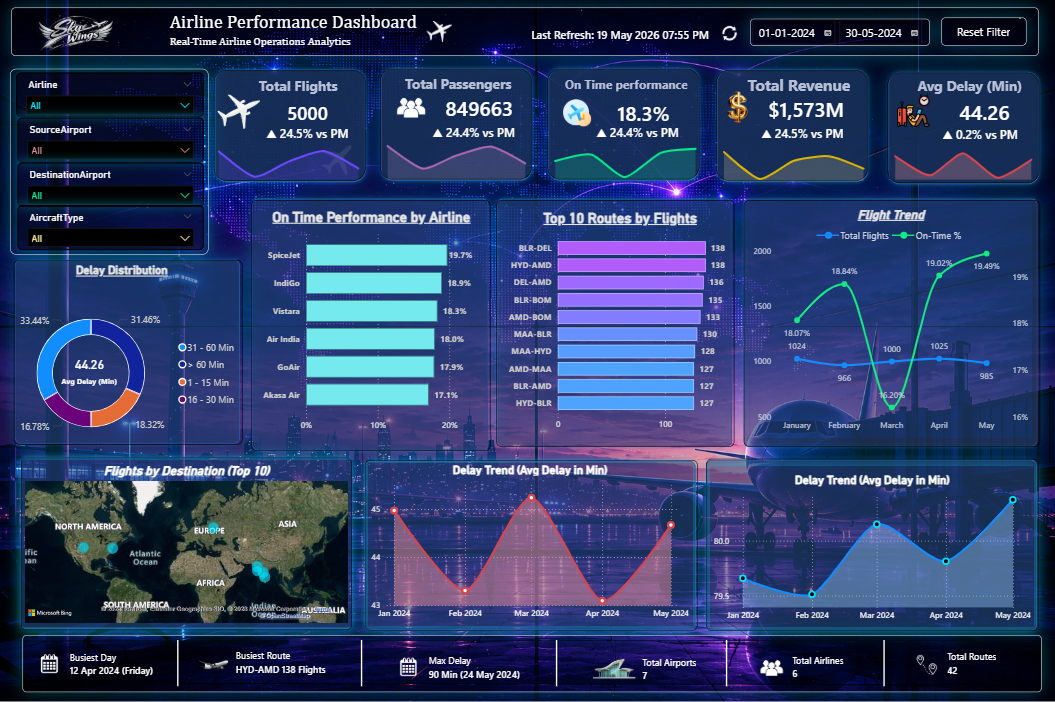

The page's visual inventory and layout, read from the dashboard file:
{"tool":"powerbi","page":{"name":"Page 1","canvas":[1536,1024],"ordinal":0},"visuals":[{"type":"group","id":"g1","title":"Group 1","box":[792.3,94.2,228.9,173.1],"z":0,"group":"g14"},{"type":"shape","box":[792.3,94.2,229.4,173.1],"z":0,"group":"g1"},{"type":"group","id":"g2","title":"Group 1","box":[306.7,95,228.9,173.1],"z":0,"group":"g10"},{"type":"shape","box":[306.7,95,229.4,173.1],"z":0,"group":"g2"},{"type":"group","id":"g3","title":"Group 1","box":[547.9,95.1,228.9,173.1],"z":0,"group":"g12"},{"type":"shape","box":[547.9,95.1,229.4,173.1],"z":0,"group":"g3"},{"type":"group","id":"g4","title":"Group 1","box":[1037.4,96.8,228.9,173.1],"z":0,"group":"g13"},{"type":"shape","box":[1037.4,96.8,229.4,173.1],"z":0,"group":"g4"},{"type":"group","id":"g5","title":"Group 1","box":[1285.6,99.6,228.9,173.1],"z":0,"group":"g16"},{"type":"shape","box":[1285.6,99.6,229.4,173.1],"z":0,"group":"g5"},{"type":"shape","box":[361.4,282.9,353.7,376.7],"z":0,"group":"g9"},{"type":"shape","box":[718.6,282.9,352.2,371.1],"z":0,"group":"g8"},{"type":"group","id":"g6","title":"Group 1","box":[1075.7,282.9,438.6,372.9],"z":0},{"type":"shape","box":[1075.7,282.9,437.8,371.1],"z":0,"group":"g6"},{"type":"shape","box":[15.7,372.9,337.7,277.6],"z":0,"group":"g11"},{"type":"shape","box":[25.4,660.8,491.5,260],"z":0,"group":"g19"},{"type":"shape","box":[1022,664,491.6,258.7],"z":0,"group":"g17"},{"type":"shape","box":[524.6,664.6,491.6,255.8],"z":0,"group":"g15"},{"type":"group","id":"g7","title":"Group 3","box":[286.7,66.7,1250,205],"z":1000},{"type":"areaChart","fields":{"Y":["Flights.Total Flights"],"Category":["Flights.Clean Date.Variation.Date Hierarchy.Year","Flights.Clean Date.Variation.Date Hierarchy.Month"]},"box":[303.4,194.9,232.7,70.7],"z":1000,"group":"g10"},{"type":"areaChart","fields":{"Category":["Flights.Clean Date.Variation.Date Hierarchy.Year","Flights.Clean Date.Variation.Date Hierarchy.Month"],"Y":["Flights.OTP %"]},"box":[791.3,195.1,234.2,70],"z":1000,"group":"g14"},{"type":"areaChart","fields":{"Category":["Flights.Clean Date.Variation.Date Hierarchy.Year","Flights.Clean Date.Variation.Date Hierarchy.Month"],"Y":["Flights.Total Passengers"]},"box":[547.3,196.1,230,70],"z":1000,"group":"g12"},{"type":"areaChart","fields":{"Category":["Flights.Clean Date.Variation.Date Hierarchy.Year","Flights.Clean Date.Variation.Date Hierarchy.Month"],"Y":["Flights.Avg Delay (Min)"]},"box":[1286.3,196.6,228,70],"z":1000,"group":"g16"},{"type":"areaChart","fields":{"Category":["Flights.Clean Date.Variation.Date Hierarchy.Year","Flights.Clean Date.Variation.Date Hierarchy.Month"],"Y":["Flights.Total Revenue"]},"box":[1037.7,197.8,233,70],"z":1000,"group":"g13"},{"type":"cardVisual","fields":{"Data":["Flights.Passenger Growth Display"]},"box":[836.8,157.5,179.2,74.2],"z":2000,"group":"g14"},{"type":"cardVisual","fields":{"Data":["Flights.Revenue Growth Display"]},"box":[1076.8,158,180,75],"z":2000,"group":"g13"},{"type":"cardVisual","fields":{"Data":["Flights.Passenger Growth Display"]},"box":[599.4,158.5,179.2,74.2],"z":2000,"group":"g12"},{"type":"cardVisual","fields":{"Data":["Flights.Delay Growth Display"]},"box":[1341.2,159.3,180,75],"z":2000,"group":"g16"},{"type":"cardVisual","fields":{"Data":["Flights.Growth Display"]},"box":[357.5,159.9,180,74.2],"z":2000,"group":"g10"},{"type":"lineChart","title":"Flight Trend","fields":{"Category":["DateTable.Date.Variation.Date Hierarchy.Month"],"Y":["Flights.Total Flights"],"Y2":["Flights.On-Time %"]},"box":[1090,290,410,345.7],"z":2000},{"type":"group","id":"g8","title":"Group 1","box":[718.6,282.9,352.9,372.9],"z":3000},{"type":"cardVisual","fields":{"Data":["Flights.Total Passengers"]},"box":[542.7,109.8,245,90],"z":4000,"group":"g12"},{"type":"cardVisual","fields":{"Data":["Flights.Avg Delay"]},"box":[1273.7,111,262.5,100.8],"z":4000,"group":"g16"},{"type":"cardVisual","fields":{"Data":["Flights.Total Revenue"]},"box":[1017.6,114.7,257.5,83.3],"z":4000,"group":"g13"},{"type":"cardVisual","fields":{"Data":["Flights.Total Flights"]},"box":[286.7,116.6,243.3,89.2],"z":4000,"group":"g10"},{"type":"cardVisual","fields":{"Data":["Flights.OTP %"]},"box":[784.3,116.7,245,90],"z":4000,"group":"g14"},{"type":"group","id":"g9","title":"Group 1","box":[361.4,282.9,354.3,378.6],"z":4000},{"type":"cardVisual","fields":{"Data":["Flights.OTP %"]},"box":[792.1,66.7,250.8,110.8],"z":5000,"group":"g14"},{"type":"cardVisual","fields":{"Data":["Flights.Total Passengers"]},"box":[559.3,70.6,231.7,104.2],"z":5000,"group":"g12"},{"type":"cardVisual","fields":{"Data":["Flights.Total Revenue"]},"box":[1056.8,70.9,231.7,104.2],"z":5000,"group":"g13"},{"type":"cardVisual","fields":{"Data":["Flights.Avg Delay (Min)"]},"box":[1305.3,72.1,232.5,104.2],"z":5000,"group":"g16"},{"type":"group","id":"g10","title":"Group 2","box":[286.7,79.1,274.2,188.9],"z":5000,"group":"g7"},{"type":"cardVisual","fields":{"Data":["Flights.Total Flights"]},"box":[346.7,79.1,214.2,90],"z":5000,"group":"g10"},{"type":"cardVisual","fields":{"Data":["Flights.Total Flights"]},"box":[796.8,100.4,220.5,160.7],"z":5000,"group":"g1"},{"type":"cardVisual","fields":{"Data":["Flights.Total Flights"]},"box":[311.2,101.2,220.5,160.7],"z":5000,"group":"g2"},{"type":"cardVisual","fields":{"Data":["Flights.Total Flights"]},"box":[552.4,101.3,220.5,160.7],"z":5000,"group":"g3"},{"type":"cardVisual","fields":{"Data":["Flights.Total Flights"]},"box":[1041.9,103,220.5,160.7],"z":5000,"group":"g4"},{"type":"cardVisual","fields":{"Data":["Flights.Total Flights"]},"box":[1290.1,105.8,220.5,160.7],"z":5000,"group":"g5"},{"type":"cardVisual","fields":{"Data":["Flights.Total Flights"]},"box":[722.5,289.3,346.7,359.3],"z":5000,"group":"g8"},{"type":"cardVisual","fields":{"Data":["Flights.Total Flights"]},"box":[1080.6,289.3,431,359.3],"z":5000,"group":"g6"},{"type":"cardVisual","fields":{"Data":["Flights.Total Flights"]},"box":[365.3,289.4,348.1,364.8],"z":5000,"group":"g9"},{"type":"group","id":"g11","title":"Group 1","box":[15.7,372.9,338.6,277.1],"z":5000},{"type":"cardVisual","fields":{"Data":["Flights.Total Flights"]},"box":[19.4,377.7,332.4,268.9],"z":5000,"group":"g11"},{"type":"cardVisual","fields":{"Data":["Flights.Total Flights"]},"box":[30,666.2,480.8,251.5],"z":5000,"group":"g19"},{"type":"cardVisual","fields":{"Data":["Flights.Total Flights"]},"box":[1027.4,668.5,483.9,250.5],"z":5000,"group":"g17"},{"type":"cardVisual","fields":{"Data":["Flights.Total Flights"]},"box":[530,669,483.9,247.8],"z":5000,"group":"g15"},{"type":"group","id":"g12","title":"Group 2","box":[542.7,70.6,248.3,197.6],"z":6000,"group":"g7"},{"type":"cardVisual","fields":{"Data":["Flights.Total Flights"]},"box":[15.2,99.6,288.4,270],"z":6000},{"type":"group","id":"g13","title":"Group 2","box":[1017.6,70.9,270.9,199],"z":7000,"group":"g7"},{"type":"cardVisual","fields":{"Data":["Flights.Total Flights"]},"box":[33,923,1482,83],"z":7000},{"type":"group","id":"g14","title":"Group 2","box":[784.3,66.7,258.7,200.6],"z":8000,"group":"g7"},{"type":"group","id":"g15","title":"Group 1","box":[524.6,664.6,491.5,254.6],"z":8000},{"type":"group","id":"g16","title":"Group 2","box":[1273.7,72.1,264.1,200.6],"z":9000,"group":"g7"},{"type":"group","id":"g17","title":"Group 1","box":[1022,664,492,258],"z":9000},{"type":"cardVisual","fields":{"Data":["Flights.Total Flights"]},"box":[15.7,10.3,1494,70],"z":10000},{"type":"clusteredBarChart","title":"Top 10 Routes  by Flights","fields":{"Y":["Flights.Total Flights"],"Category":["Flights.Route"]},"box":[734,295,335,341],"z":11000},{"type":"group","id":"g18","title":"Group 1","box":[25.4,660.8,491.5,260],"z":12000},{"type":"group","id":"g19","title":"Group 4","box":[25.4,660.8,491.5,260],"z":12001,"group":"g18"},{"type":"clusteredBarChart","title":"On Time Performance by Airline","fields":{"Category":["Flights.Airline"],"Y":["Flights.On Time 2 %"]},"box":[377,293,328,343],"z":13000},{"type":"card","fields":{"Values":["Flights.Avg Delay (Min)"]},"box":[69.4,503.9,122.2,68.9],"z":14000},{"type":"donutChart","title":"Delay Distribution ","fields":{"Category":["Flights.Delay Group"],"Y":["CountNonNull(Flights.DelayMinutes)"]},"box":[0,373.3,354.4,310],"z":15000},{"type":"map","title":"Flights by Destination (Top 10)","fields":{"Category":["Flights.DestinationAirport"],"Size":["Flights.Total Flights"]},"box":[30,669.3,480.7,242],"z":16000},{"type":"lineChart","title":"Delay Trend (Avg Delay in Min) ","fields":{"Y":["Flights.Avg Delay"],"Category":["DateTable.Date.Variation.Date Hierarchy.Year","DateTable.Date.Variation.Date Hierarchy.Month"]},"box":[535,673.3,472.5,237.5],"z":17000},{"type":"lineChart","title":"Delay Trend (Avg Delay in Min) ","fields":{"Y":["DateTable.Load Factor %"],"Category":["DateTable.Date.Variation.Date Hierarchy.Year","DateTable.Date.Variation.Date Hierarchy.Month"]},"box":[1032.4,677.6,471.8,234.1],"z":18000},{"type":"textbox","box":[242.5,10,410.8,42.5],"z":19000},{"type":"textbox","box":[242.4,45.3,293.5,33.5],"z":20000},{"type":"image","box":[610.7,22.7,56,48],"z":21000},{"type":"cardVisual","fields":{"Data":["Flights.Last Refresh"]},"box":[744.2,10,365,75],"z":22000},{"type":"slicer","fields":{"Values":["Flights.Airline"]},"box":[23.6,105.9,272.7,64.5],"z":23000},{"type":"cardVisual","fields":{"Data":["Flights.Total Flights"]},"box":[1090,27.5,261.7,39.2],"z":24000},{"type":"actionButton","box":[1369.2,25.4,123.8,40.8],"z":25000},{"type":"slicer","fields":{"Values":["DateTable.Date"]},"box":[1081.7,18.3,270.8,51.7],"z":26000},{"type":"slicer","fields":{"Values":["Flights.SourceAirport"]},"box":[25.5,170,270.9,65.5],"z":27000},{"type":"slicer","fields":{"Values":["Flights.DestinationAirport"]},"box":[25.5,235.5,270.9,65],"z":28000},{"type":"slicer","fields":{"Values":["Flights.AircraftType"]},"box":[25.5,298.2,270.9,65.5],"z":29000},{"type":"cardVisual","fields":{"Data":["Flights.Busiest Day"]},"box":[25.4,923.1,245.4,83.1],"z":30000},{"type":"cardVisual","fields":{"Data":["Flights.Busiest Route"]},"box":[260,926,264,84],"z":31000},{"type":"cardVisual","fields":{"Data":["Flights.Max Delay"]},"box":[548,932,246,74],"z":32000},{"type":"image","box":[0,0,218.5,106.2],"z":33000},{"type":"cardVisual","fields":{"Data":["Flights.Total Airports"]},"box":[838,932,204,80],"z":34000},{"type":"cardVisual","fields":{"Data":["Flights.Total Routes"]},"box":[1303.8,926.2,192.5,82.5],"z":35000},{"type":"cardVisual","fields":{"Data":["Flights.Total Airports"]},"box":[1633.1,1548.5,228.5,65.4],"z":36000},{"type":"cardVisual","fields":{"Data":["Flights.Total Airlines"]},"box":[1078,932,208,76],"z":37000},{"type":"shape","box":[516.8,1695.9,11.8,70],"z":38000},{"type":"shape","box":[184.2,930.8,150,67.5],"z":39000},{"type":"shape","box":[450,930.8,150,67.5],"z":40000},{"type":"shape","box":[734.2,930.8,150,67.5],"z":41000},{"type":"shape","box":[981.7,930.8,150,67.5],"z":42000},{"type":"shape","box":[1210.8,930.8,150,67.5],"z":43000}]}

Visuals, with their boxes in screenshot pixels (x1, y1, x2, y2), scaled from the page's 1536x1024 canvas onto the 1055x702 screenshot:
"Group 1" group: locate(544, 65, 701, 183)
shape: locate(544, 65, 702, 183)
"Group 1" group: locate(211, 65, 368, 184)
shape: locate(211, 65, 368, 184)
"Group 1" group: locate(376, 65, 534, 184)
shape: locate(376, 65, 534, 184)
"Group 1" group: locate(713, 66, 870, 185)
shape: locate(713, 66, 870, 185)
"Group 1" group: locate(883, 68, 1040, 187)
shape: locate(883, 68, 1041, 187)
shape: locate(248, 194, 491, 452)
shape: locate(494, 194, 735, 448)
"Group 1" group: locate(739, 194, 1040, 450)
shape: locate(739, 194, 1040, 448)
shape: locate(11, 256, 243, 446)
shape: locate(17, 453, 355, 631)
shape: locate(702, 455, 1040, 633)
shape: locate(360, 456, 698, 631)
"Group 3" group: locate(197, 46, 1054, 186)
areaChart - Flights.Total Flights x Flights.Clean Date.Variation.Date Hierarchy.Year: locate(208, 134, 368, 182)
areaChart - Flights.Clean Date.Variation.Date Hierarchy.Year x Flights.Clean Date.Variation.Date Hierarchy.Month: locate(544, 134, 704, 182)
areaChart - Flights.Clean Date.Variation.Date Hierarchy.Year x Flights.Clean Date.Variation.Date Hierarchy.Month: locate(376, 134, 534, 182)
areaChart - Flights.Clean Date.Variation.Date Hierarchy.Year x Flights.Clean Date.Variation.Date Hierarchy.Month: locate(883, 135, 1040, 183)
areaChart - Flights.Clean Date.Variation.Date Hierarchy.Year x Flights.Clean Date.Variation.Date Hierarchy.Month: locate(713, 136, 873, 184)
cardVisual - Flights.Passenger Growth Display: locate(575, 108, 698, 159)
cardVisual - Flights.Revenue Growth Display: locate(740, 108, 863, 160)
cardVisual - Flights.Passenger Growth Display: locate(412, 109, 535, 160)
cardVisual - Flights.Delay Growth Display: locate(921, 109, 1045, 161)
cardVisual - Flights.Growth Display: locate(246, 110, 369, 160)
"Flight Trend" lineChart: locate(749, 199, 1030, 436)
"Group 1" group: locate(494, 194, 736, 450)
cardVisual - Flights.Total Passengers: locate(373, 75, 541, 137)
cardVisual - Flights.Avg Delay: locate(875, 76, 1054, 145)
cardVisual - Flights.Total Revenue: locate(699, 79, 876, 136)
cardVisual - Flights.Total Flights: locate(197, 80, 364, 141)
cardVisual - Flights.OTP %: locate(539, 80, 707, 142)
"Group 1" group: locate(248, 194, 492, 453)
cardVisual - Flights.OTP %: locate(544, 46, 716, 122)
cardVisual - Flights.Total Passengers: locate(384, 48, 543, 120)
cardVisual - Flights.Total Revenue: locate(726, 49, 885, 120)
cardVisual - Flights.Avg Delay (Min): locate(897, 49, 1054, 121)
"Group 2" group: locate(197, 54, 385, 184)
cardVisual - Flights.Total Flights: locate(238, 54, 385, 116)
cardVisual - Flights.Total Flights: locate(547, 69, 699, 179)
cardVisual - Flights.Total Flights: locate(214, 69, 365, 180)
cardVisual - Flights.Total Flights: locate(379, 69, 531, 180)
cardVisual - Flights.Total Flights: locate(716, 71, 867, 181)
cardVisual - Flights.Total Flights: locate(886, 73, 1038, 183)
cardVisual - Flights.Total Flights: locate(496, 198, 734, 445)
cardVisual - Flights.Total Flights: locate(742, 198, 1038, 445)
cardVisual - Flights.Total Flights: locate(251, 198, 490, 448)
"Group 1" group: locate(11, 256, 243, 446)
cardVisual - Flights.Total Flights: locate(13, 259, 242, 443)
cardVisual - Flights.Total Flights: locate(21, 457, 351, 629)
cardVisual - Flights.Total Flights: locate(706, 458, 1038, 630)
cardVisual - Flights.Total Flights: locate(364, 459, 696, 629)
"Group 2" group: locate(373, 48, 543, 184)
cardVisual - Flights.Total Flights: locate(10, 68, 209, 253)
"Group 2" group: locate(699, 49, 885, 185)
cardVisual - Flights.Total Flights: locate(23, 633, 1041, 690)
"Group 2" group: locate(539, 46, 716, 183)
"Group 1" group: locate(360, 456, 698, 630)
"Group 2" group: locate(875, 49, 1054, 187)
"Group 1" group: locate(702, 455, 1040, 632)
cardVisual - Flights.Total Flights: locate(11, 7, 1037, 55)
"Top 10 Routes  by Flights" clusteredBarChart: locate(504, 202, 734, 436)
"Group 1" group: locate(17, 453, 355, 631)
"Group 4" group: locate(17, 453, 355, 631)
"On Time Performance by Airline" clusteredBarChart: locate(259, 201, 484, 436)
card - Flights.Avg Delay (Min): locate(48, 345, 132, 393)
"Delay Distribution " donutChart: locate(0, 256, 243, 468)
"Flights by Destination (Top 10)" map: locate(21, 459, 351, 625)
"Delay Trend (Avg Delay in Min) " lineChart: locate(367, 462, 692, 624)
"Delay Trend (Avg Delay in Min) " lineChart: locate(709, 465, 1033, 625)
textbox: locate(167, 7, 449, 36)
textbox: locate(166, 31, 368, 54)
image: locate(419, 16, 458, 48)
cardVisual - Flights.Last Refresh: locate(511, 7, 762, 58)
slicer - Flights.Airline: locate(16, 73, 204, 117)
cardVisual - Flights.Total Flights: locate(749, 19, 928, 46)
actionButton: locate(940, 17, 1025, 45)
slicer - DateTable.Date: locate(743, 13, 929, 48)
slicer - Flights.SourceAirport: locate(18, 117, 204, 161)
slicer - Flights.DestinationAirport: locate(18, 161, 204, 206)
slicer - Flights.AircraftType: locate(18, 204, 204, 249)
cardVisual - Flights.Busiest Day: locate(17, 633, 186, 690)
cardVisual - Flights.Busiest Route: locate(179, 635, 360, 692)
cardVisual - Flights.Max Delay: locate(376, 639, 545, 690)
image: locate(0, 0, 150, 73)
cardVisual - Flights.Total Airports: locate(576, 639, 716, 694)
cardVisual - Flights.Total Routes: locate(896, 635, 1028, 692)
cardVisual - Flights.Total Airlines: locate(740, 639, 883, 691)
shape: locate(127, 638, 230, 684)
shape: locate(309, 638, 412, 684)
shape: locate(504, 638, 607, 684)
shape: locate(674, 638, 777, 684)
shape: locate(832, 638, 935, 684)
